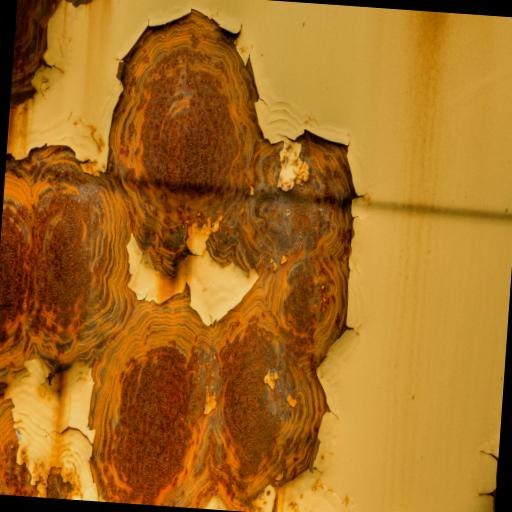segmentation: (0, 10, 355, 512), (10, 0, 62, 106), (46, 467, 72, 499)
